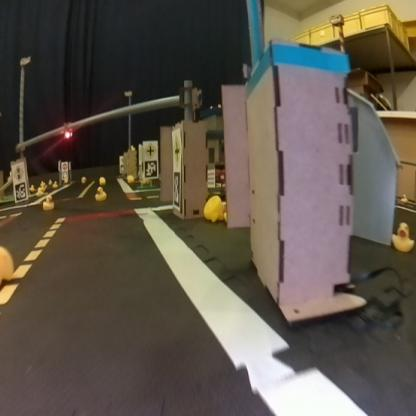duckie: (189, 189, 232, 226), (0, 237, 23, 299), (390, 212, 415, 260), (91, 181, 111, 206), (39, 192, 57, 210)
